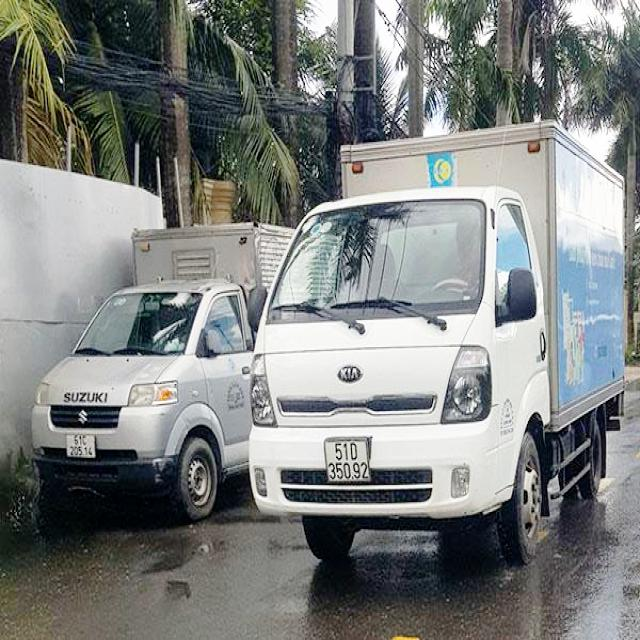license_plate: (325, 440, 374, 487)
